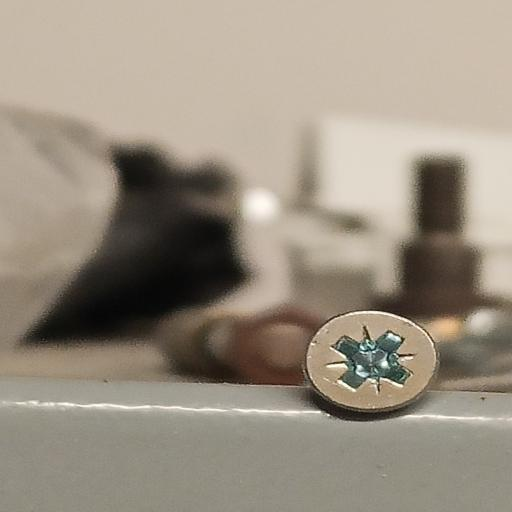Pozidriv: (295, 308, 446, 430)
